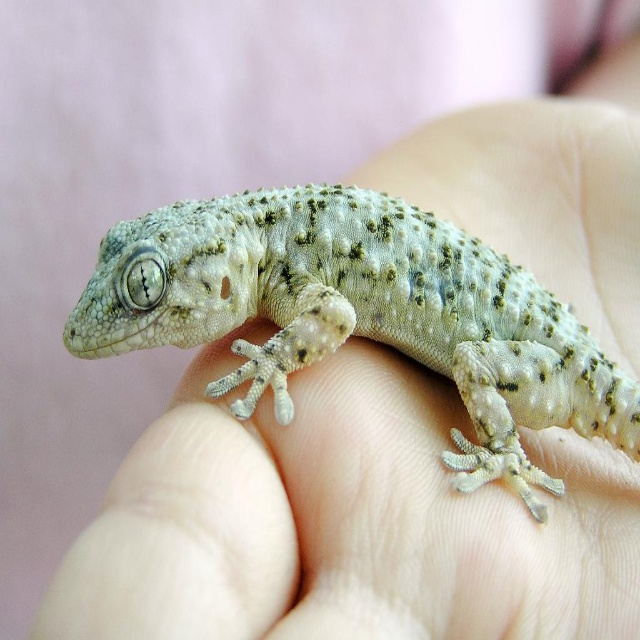Lizard: (64, 183, 639, 523)
